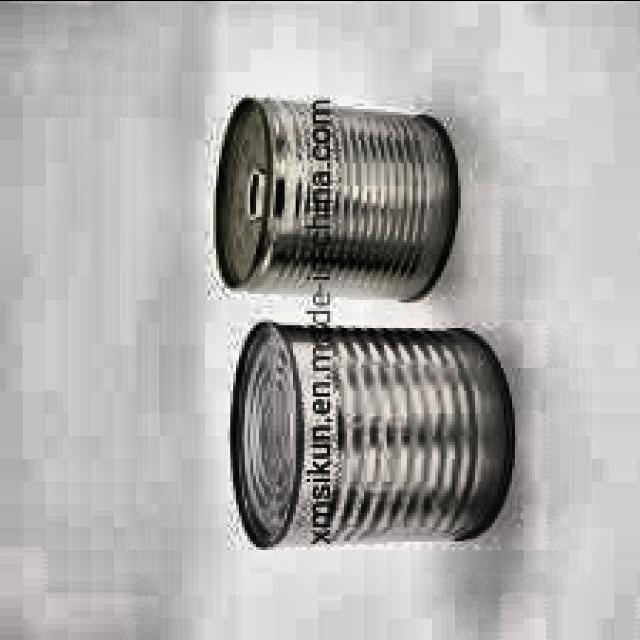Aluminum Can: (220, 314, 520, 553), (208, 88, 467, 304)
